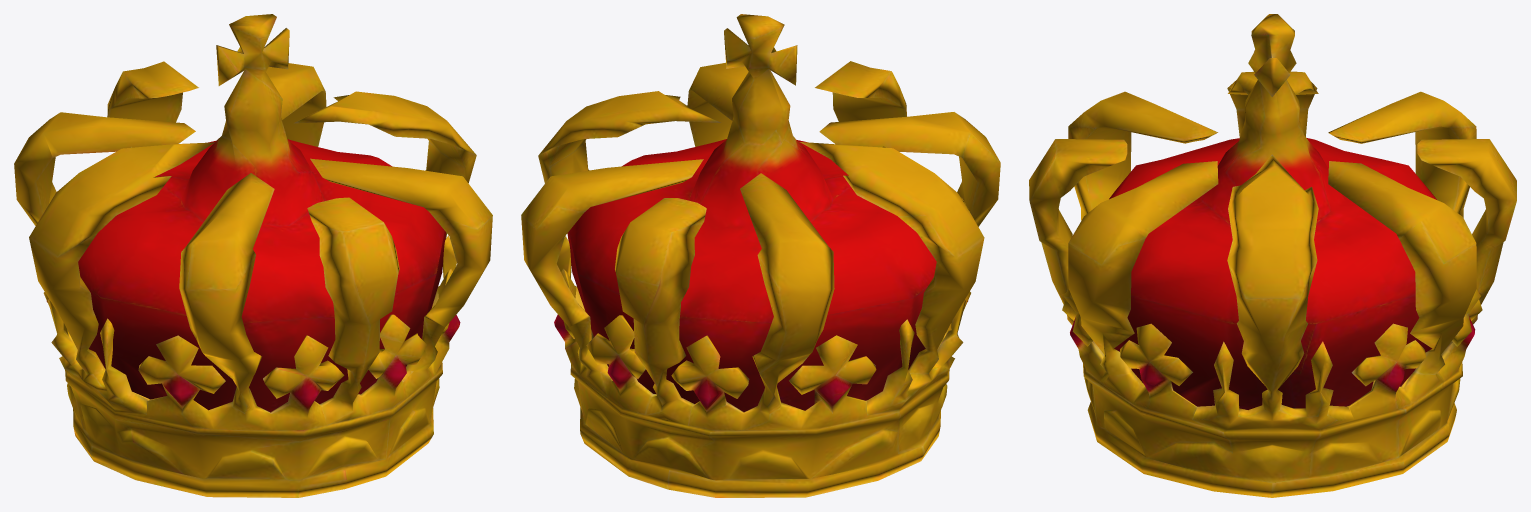
Rendered from cos-crown.glb.
3 views of the same model, side by side, from view 1: azimuth 30°, elevation 25°; view 2: azimuth 150°, elevation 25°; view 3: azimuth 270°, elevation 25° (orthographic).
Visible parts, largest first — view 1: geometry_0; view 2: geometry_0; view 3: geometry_0.
Part boxes in pixels (x1,y1,x2,y2): geometry_0: (14, 14, 492, 497); geometry_0: (521, 14, 1000, 497); geometry_0: (1029, 14, 1516, 497).
Size of the model in its own units: 0.9414 by 0.8599 by 0.959.
1 material, 1 textured.
